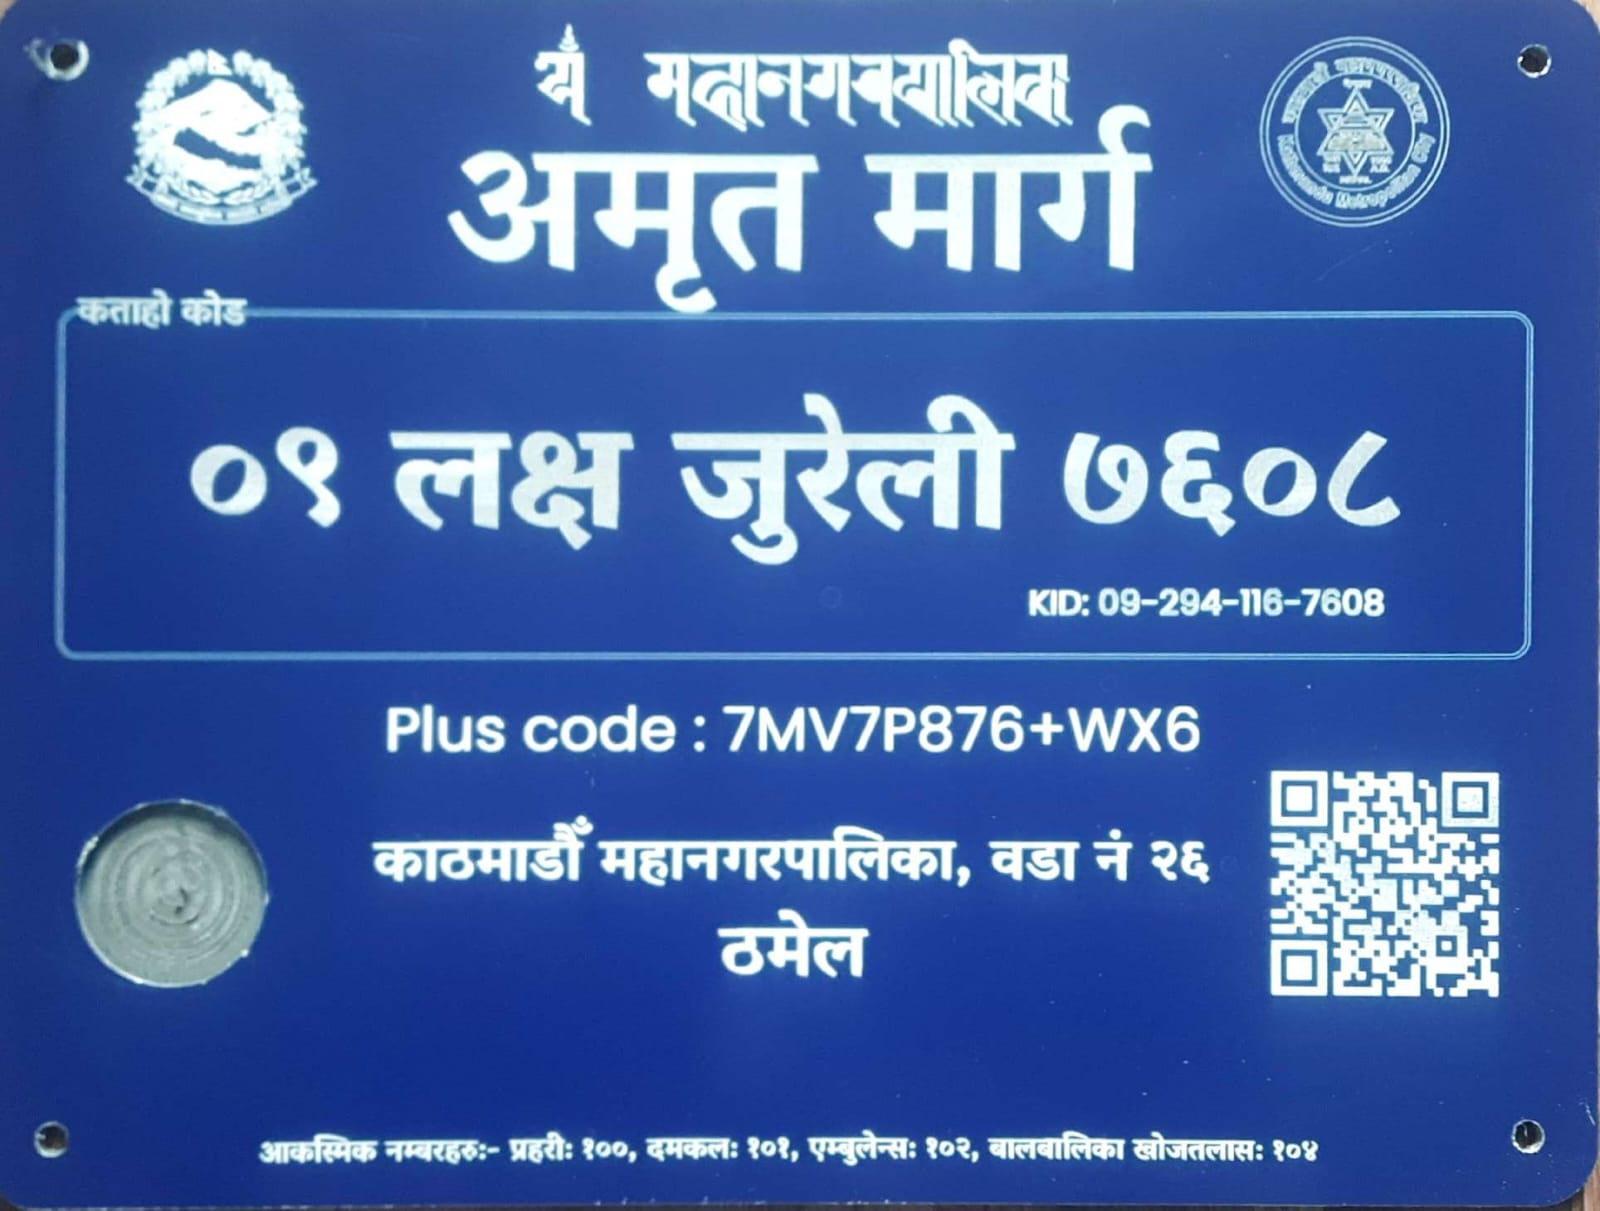Plate: (4, 2, 1600, 1211)
